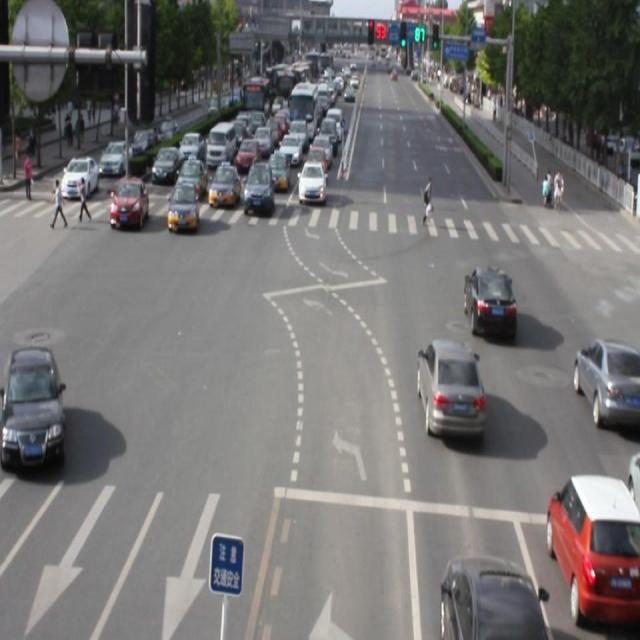car: (545, 471, 640, 625), (438, 550, 543, 640), (1, 344, 65, 472), (416, 338, 484, 436), (573, 335, 640, 424), (464, 263, 517, 339), (169, 180, 198, 232)
